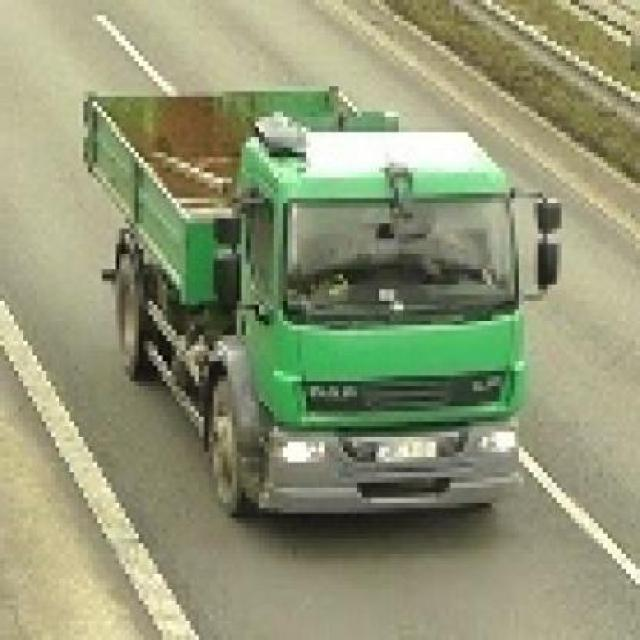truck: (89, 77, 567, 519)
